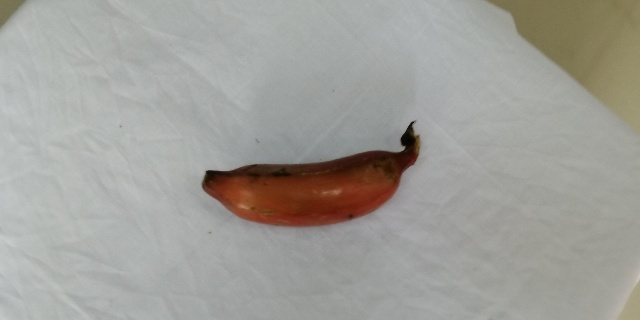banana_red: (199, 125, 423, 224)
